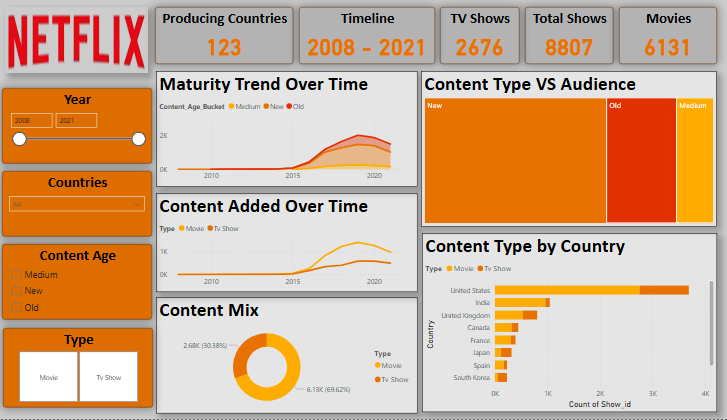

This screenshot's page, from the dashboard's own definition file:
{"tool":"powerbi","page":{"name":"Page 1","canvas":[1300,750],"ordinal":0},"visuals":[{"type":"card","title":"Total Shows","fields":{"Values":["CountNonNull(netflix_title_fact.Show_id)"]},"box":[938.3,15,158.3,101.7],"z":0},{"type":"card","title":"Movies","fields":{"Values":["CountNonNull(netflix_title_fact.Show_id)"]},"box":[1105,15,175,101.7],"z":1000},{"type":"card","title":"TV Shows","fields":{"Values":["CountNonNull(netflix_title_fact.Show_id)"]},"box":[785,15,141.7,101.7],"z":2000},{"type":"card","title":"Producing Countries","fields":{"Values":["Count(dim_country.Country)"]},"box":[276.7,15,246.7,101.7],"z":3000},{"type":"donutChart","title":"Content Mix","fields":{"Category":["netflix_title_fact.Type"],"Y":["CountNonNull(netflix_title_fact.Show_id)"]},"box":[278.3,531.7,466.7,208.3],"z":4000},{"type":"lineChart","title":"Content Added Over Time","fields":{"Category":["netflix_title_fact.Year"],"Series":["netflix_title_fact.Type"],"Y":["CountNonNull(netflix_title_fact.Show_id)"]},"box":[278.3,346.7,466.7,176.7],"z":5000},{"type":"card","title":"Timeline","fields":{"Values":["netflix_title_fact.Timeline Card"]},"box":[533.3,15,243.3,101.7],"z":6000},{"type":"stackedAreaChart","title":"Maturity Trend Over Time","fields":{"Category":["netflix_title_fact.Year"],"Y":["CountNonNull(netflix_title_fact.Show_id)"],"Series":["netflix_title_fact.Content_Age_Bucket"]},"box":[278.3,128.3,466.7,206.7],"z":7000},{"type":"barChart","title":"Content Type by Country","fields":{"Category":["dim_country.Country"],"Y":["CountNonNull(netflix_country.Show_id)"],"Series":["netflix_title_fact.Type"]},"box":[753.3,418.3,526.7,320],"z":8000},{"type":"treemap","title":"Content Type VS Audience","fields":{"Group":["netflix_title_fact.Type","netflix_title_fact.Content_Age_Bucket"],"Values":["CountNonNull(netflix_title_fact.Show_id)"]},"box":[751.7,128.3,528.3,278.3],"z":9000},{"type":"image","box":[8.3,15,255,118.3],"z":10000},{"type":"slicer","title":"Year","fields":{"Values":["netflix_title_fact.Year"]},"box":[3.3,158.3,268.3,135],"z":11000},{"type":"slicer","title":"Content Age","fields":{"Values":["netflix_title_fact.Content_Age_Bucket"]},"box":[3.3,438.3,268.3,135],"z":12000},{"type":"slicer","title":"Countries","fields":{"Values":["dim_country.Country"]},"box":[3.3,306.7,268.3,116.7],"z":13000},{"type":"slicer","title":"Type","fields":{"Values":["netflix_title_fact.Type"]},"box":[5,588.3,268.3,141.7],"z":14000}]}

Visuals, with their boxes in screenshot pixels (x1, y1, x2, y2), scaled from the page's 1300x750 canvas onto the 727x420 screenshot:
"Total Shows" card: [left=525, top=8, right=613, bottom=65]
"Movies" card: [left=618, top=8, right=716, bottom=65]
"TV Shows" card: [left=439, top=8, right=518, bottom=65]
"Producing Countries" card: [left=155, top=8, right=293, bottom=65]
"Content Mix" donutChart: [left=156, top=298, right=417, bottom=414]
"Content Added Over Time" lineChart: [left=156, top=194, right=417, bottom=293]
"Timeline" card: [left=298, top=8, right=434, bottom=65]
"Maturity Trend Over Time" stackedAreaChart: [left=156, top=72, right=417, bottom=188]
"Content Type by Country" barChart: [left=421, top=234, right=716, bottom=413]
"Content Type VS Audience" treemap: [left=420, top=72, right=716, bottom=228]
image: [left=5, top=8, right=147, bottom=75]
"Year" slicer: [left=2, top=89, right=152, bottom=164]
"Content Age" slicer: [left=2, top=245, right=152, bottom=321]
"Countries" slicer: [left=2, top=172, right=152, bottom=237]
"Type" slicer: [left=3, top=329, right=153, bottom=409]
